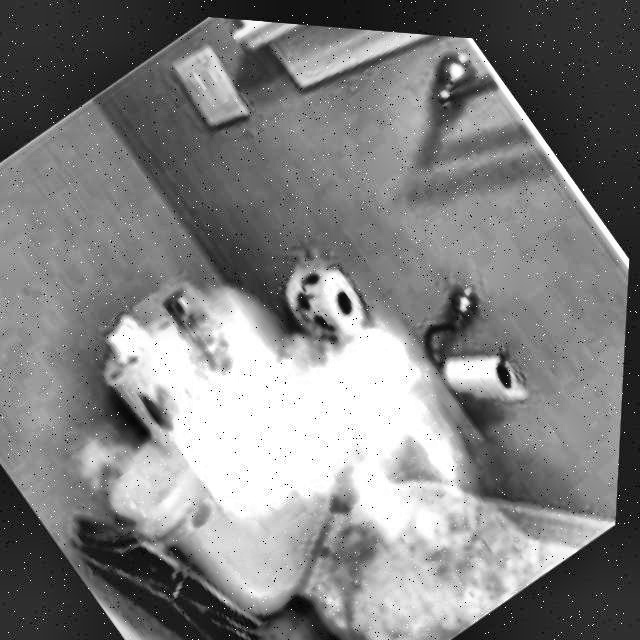Smoke: (1, 163, 541, 640)
